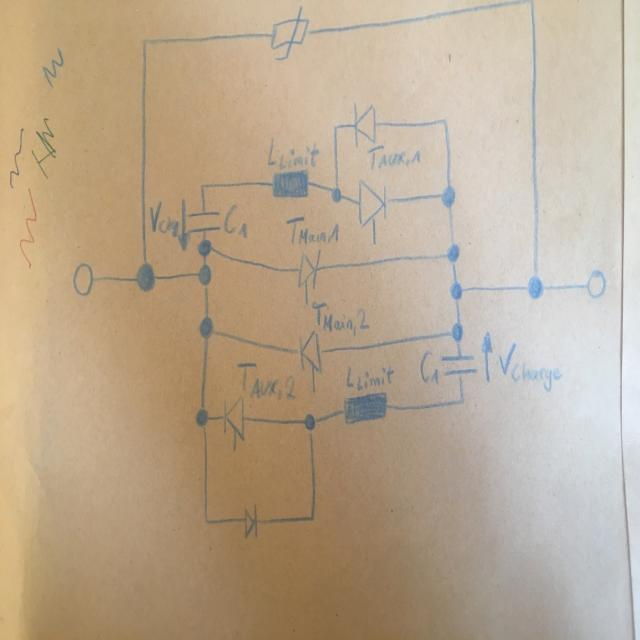capacitor: (440, 351, 479, 379), (185, 208, 222, 234)
diode: (352, 100, 377, 148), (242, 502, 258, 540)
inductor: (341, 390, 388, 426), (270, 167, 310, 200)
junction: (134, 260, 157, 292), (525, 273, 545, 300), (439, 184, 456, 209), (198, 315, 215, 340), (196, 262, 212, 288), (444, 241, 460, 265), (194, 404, 210, 428), (302, 412, 318, 436), (448, 280, 464, 301), (450, 320, 464, 343), (196, 238, 212, 258), (330, 186, 342, 203), (440, 114, 450, 127), (307, 511, 316, 523), (458, 395, 466, 407), (140, 37, 149, 47), (202, 516, 211, 526), (198, 180, 206, 190), (524, 0, 534, 6), (332, 122, 338, 130)
terminal: (71, 260, 95, 297), (585, 268, 607, 299)
text: (496, 341, 562, 392), (235, 360, 297, 400), (310, 298, 370, 336), (266, 135, 320, 171), (284, 213, 340, 246), (365, 143, 422, 171), (344, 362, 394, 390), (148, 200, 178, 237), (222, 203, 248, 239), (418, 348, 439, 386)
thyristor: (356, 177, 387, 234), (298, 328, 324, 379), (222, 394, 247, 446), (295, 248, 322, 295)
